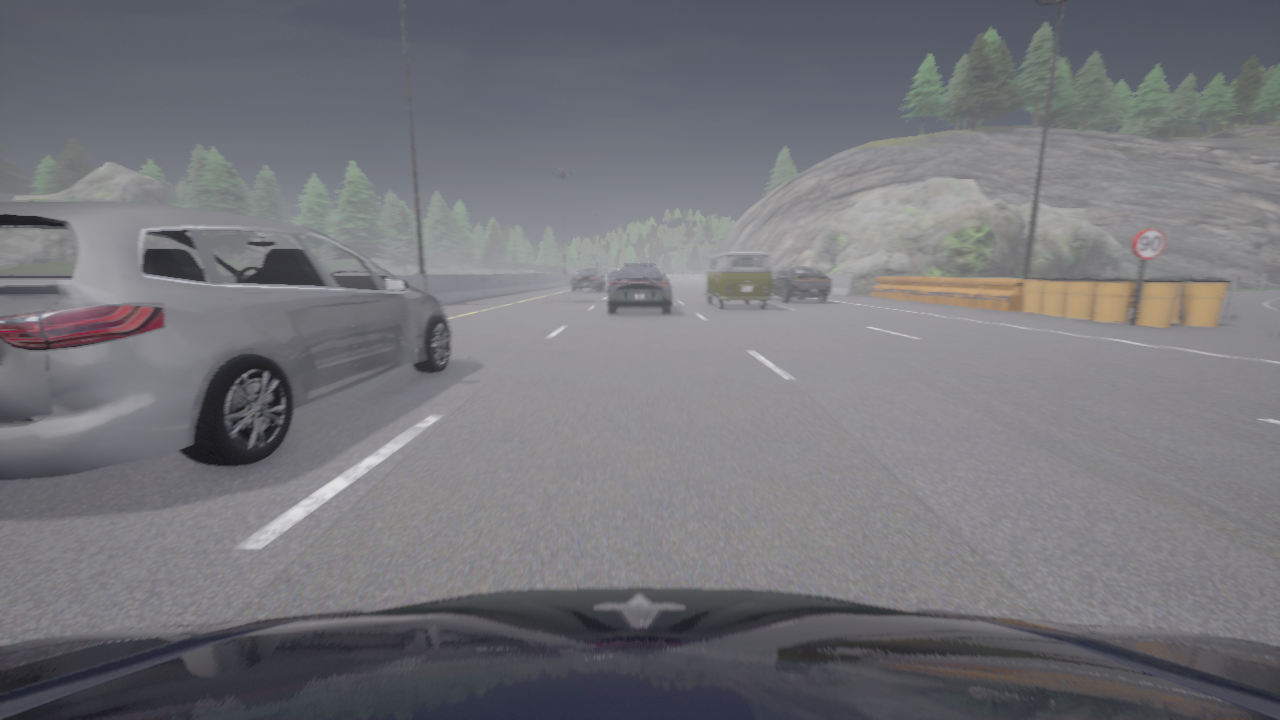cyclist: (0, 588, 1279, 719), (0, 200, 451, 480), (704, 251, 772, 308), (608, 263, 671, 313), (772, 267, 830, 302), (572, 269, 604, 291), (608, 268, 620, 282)
